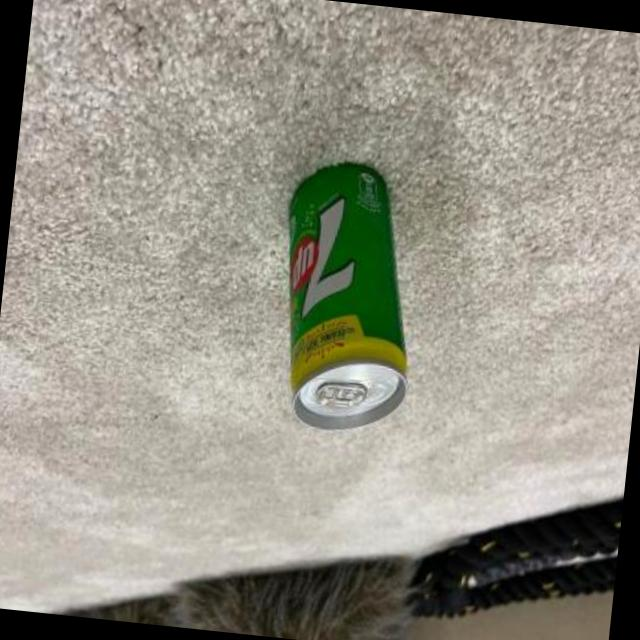metal: (290, 165, 408, 431)
